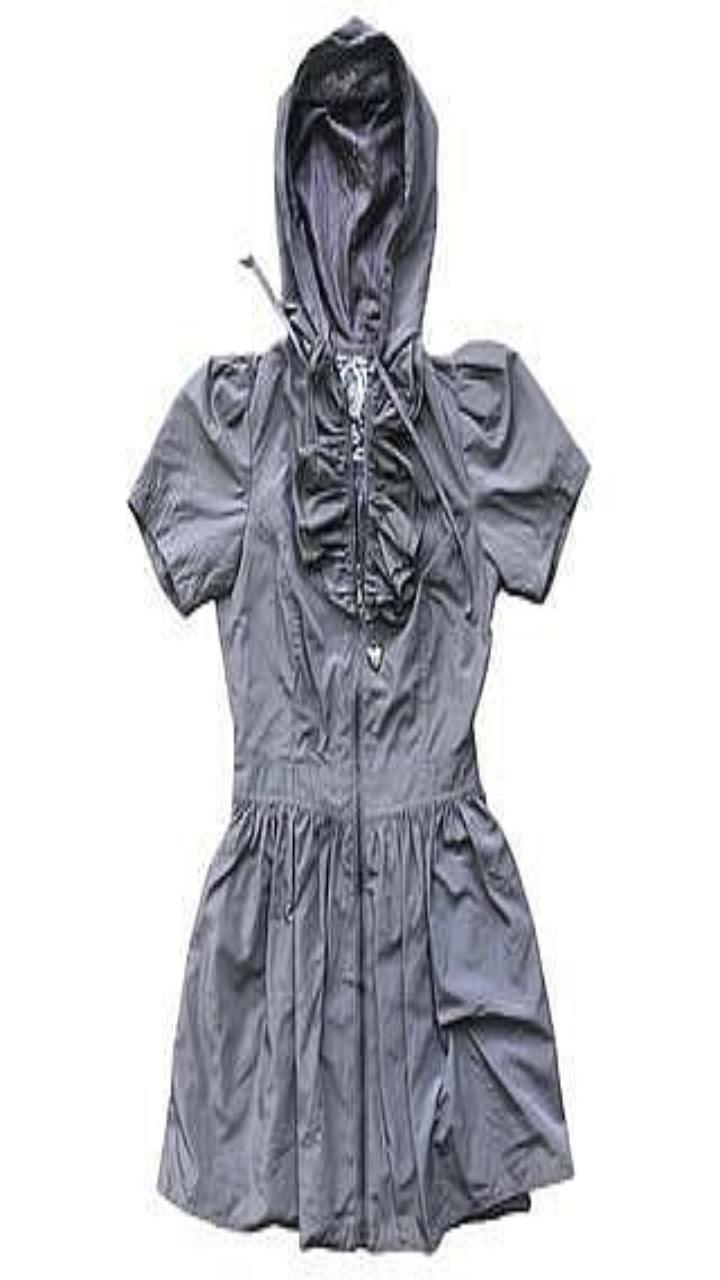Coat: (128, 17, 588, 1250)
